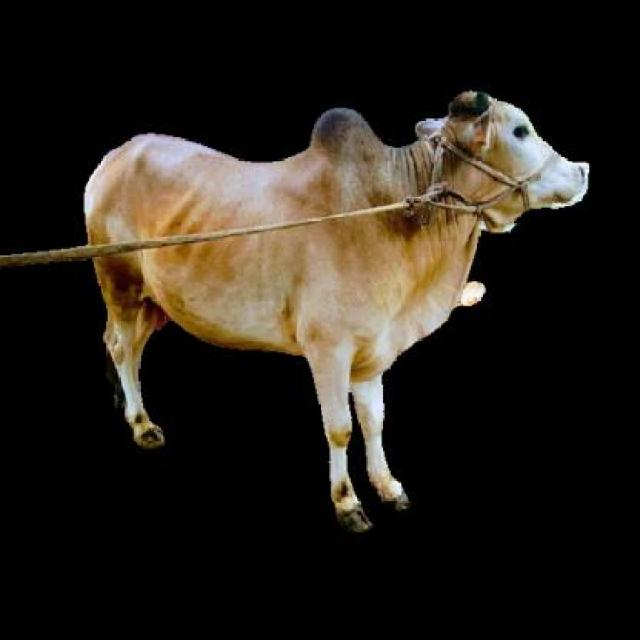Cow: (80, 86, 591, 532)
